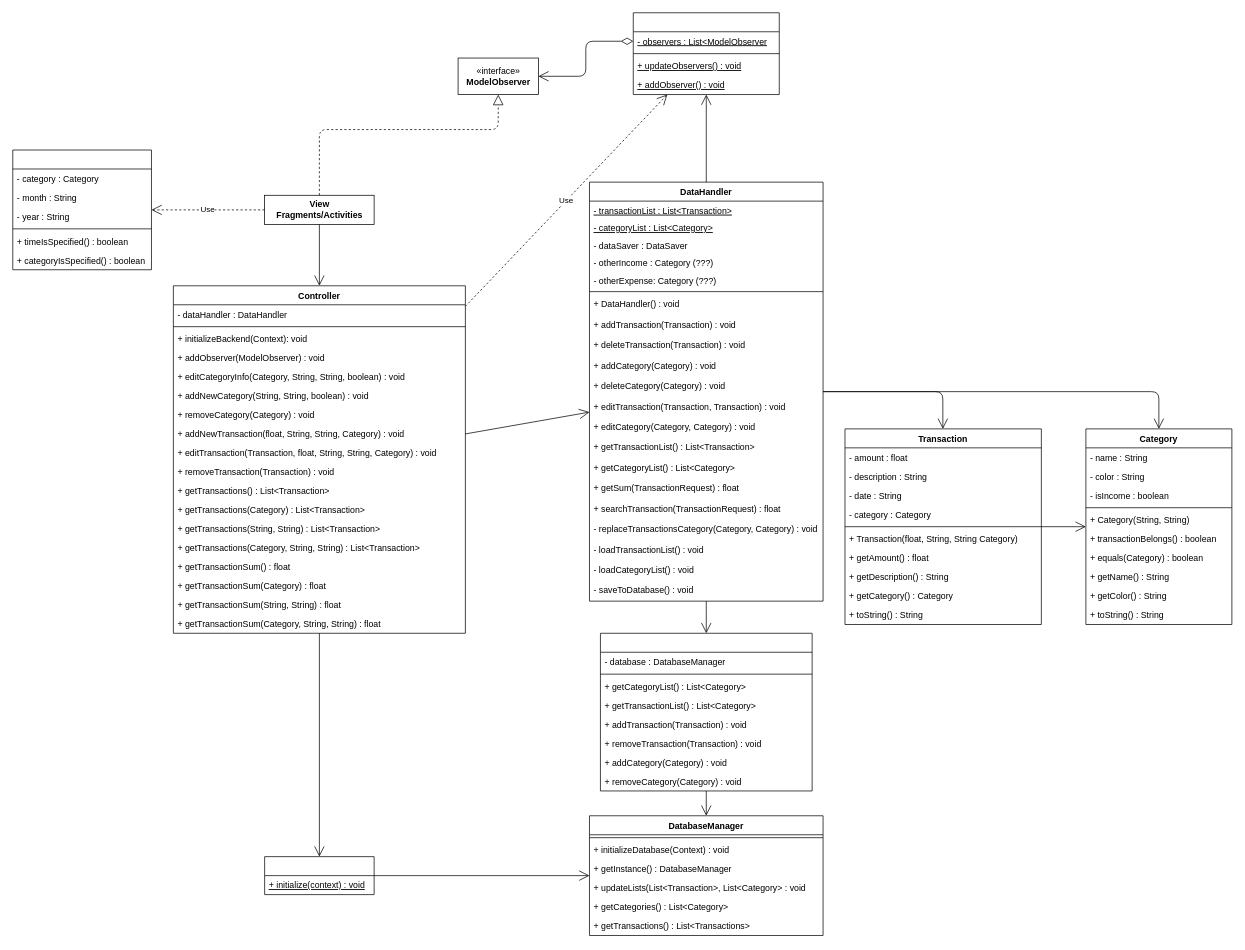
Image size: 1245x950. Some labels were removed from this diagram. Here are the shapes that lost their labels. From the top down, the box of each, then its label:
(633, 12, 779, 95): ObserverHandler
(12, 149, 151, 270): TransactionRequest
(600, 633, 812, 791): DataSaver
(264, 856, 374, 895): DatabaseInitializer
